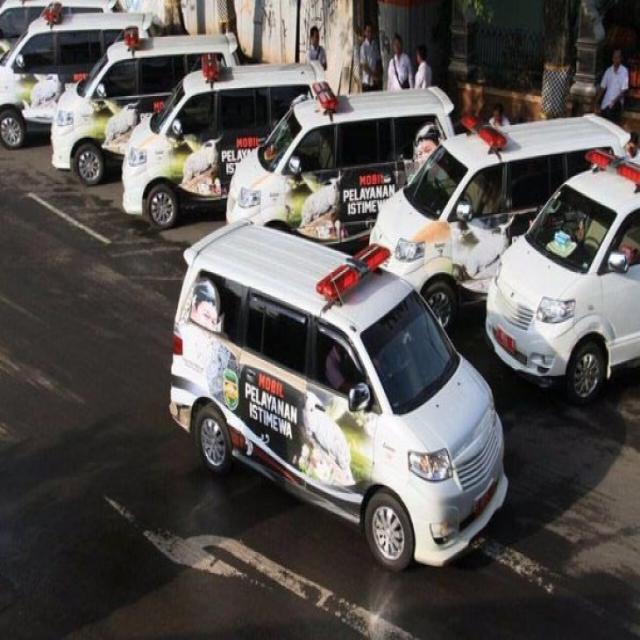ambulance: (167, 219, 511, 576), (484, 147, 640, 405)
